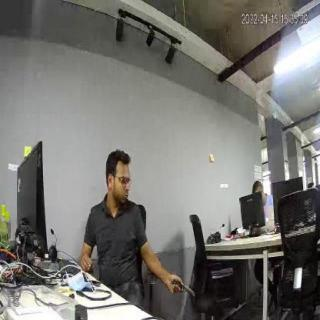knife: (178, 276, 196, 298)
